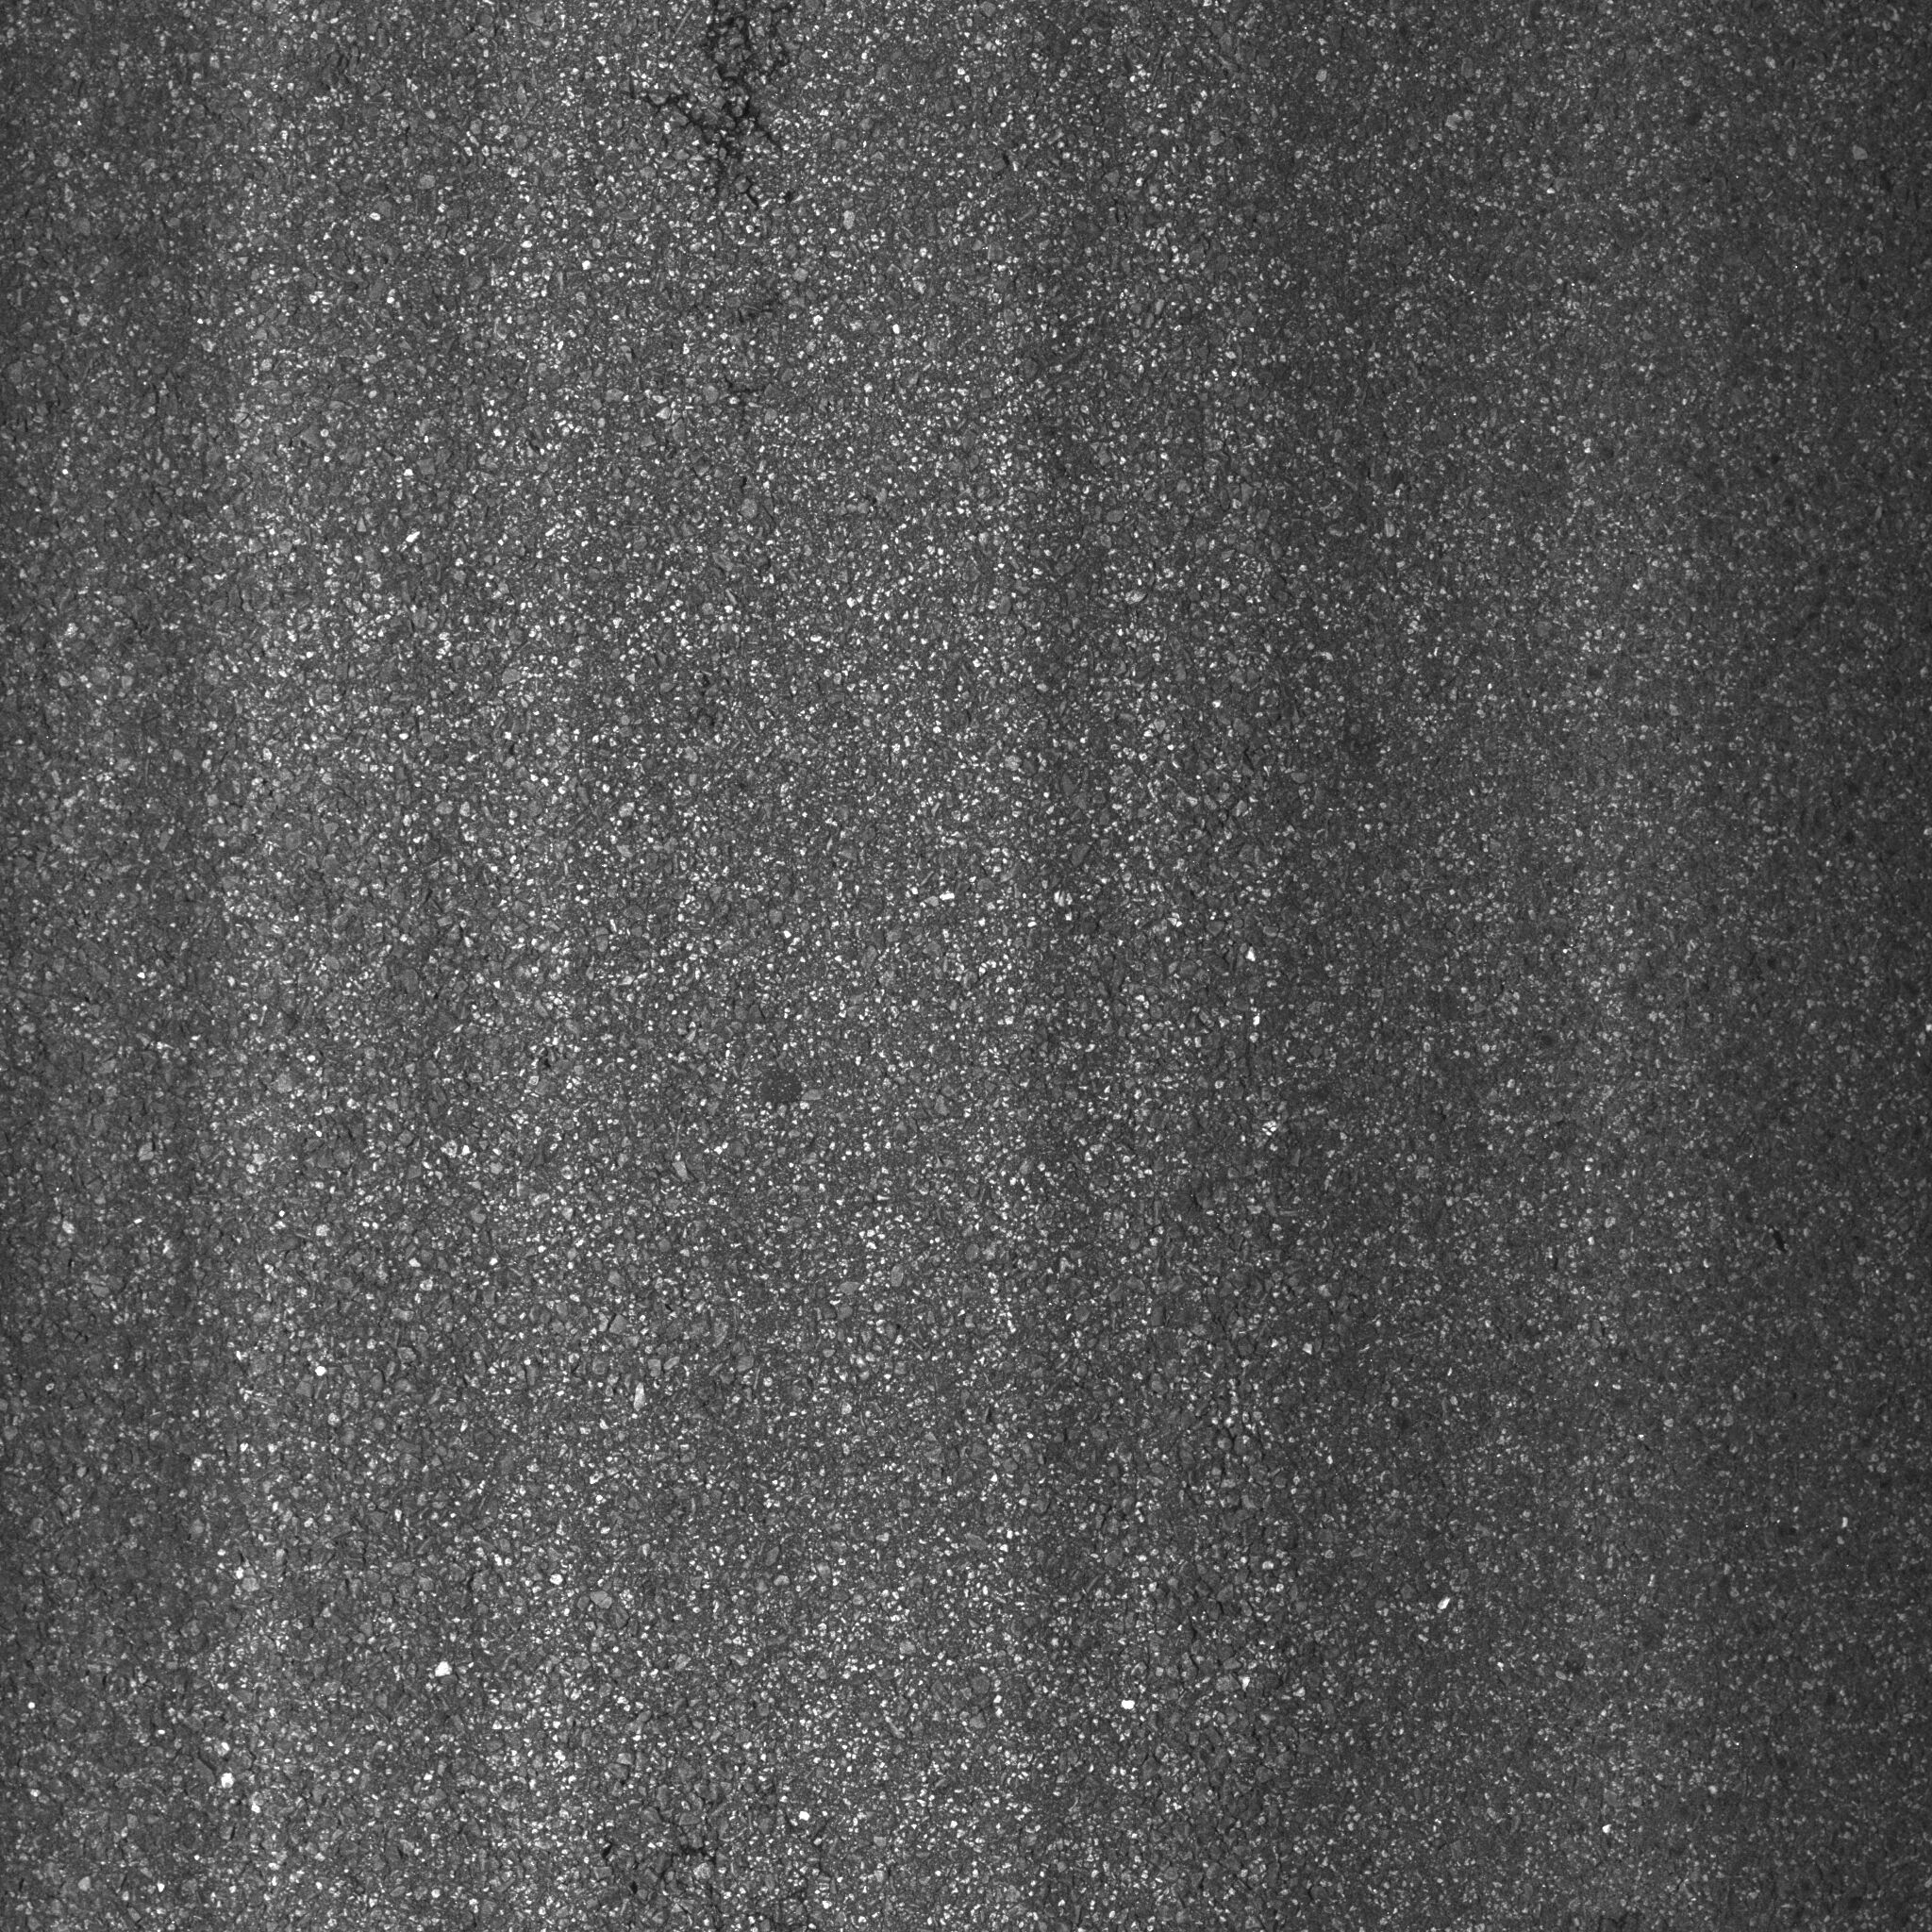longitudinal: (651, 7, 805, 234)
